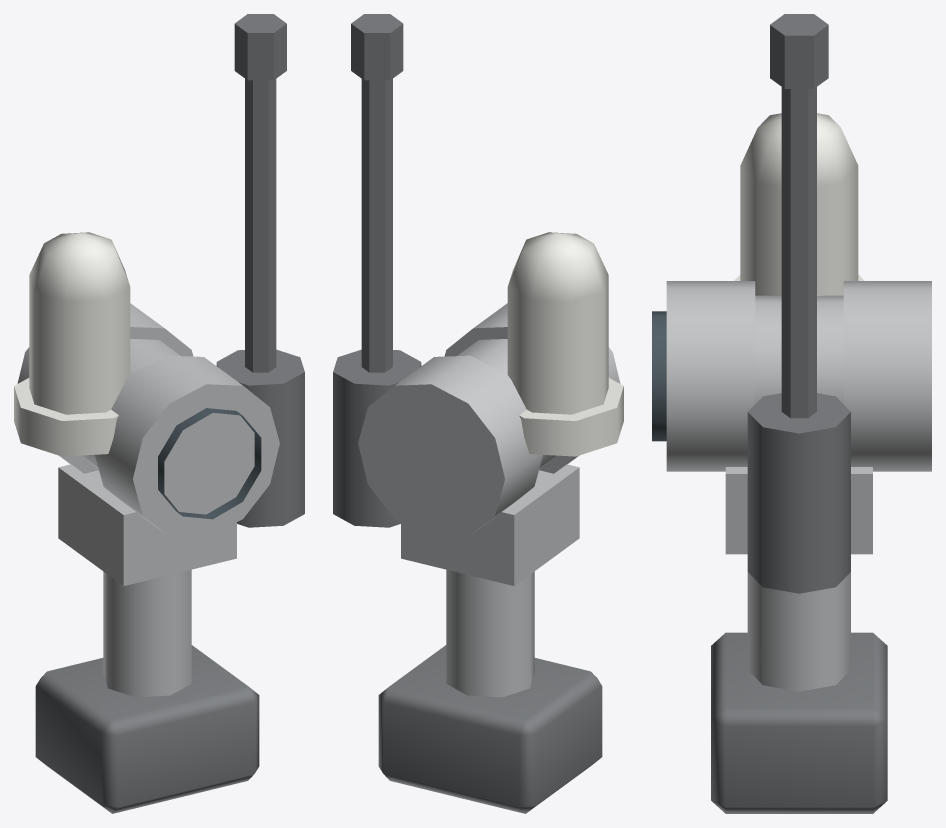
Rendered from sensor_surface.glb.
3 renders of one model, left to right at view 1: azimuth 30°, elevation 25°; view 2: azimuth 150°, elevation 25°; view 3: azimuth 270°, elevation 25°, orthographic. The views are drawn at different scales.
Visible parts, largest first — view 1: SENSOR_KIT_steel, SENSOR_KIT_steel_dark, SENSOR_KIT_light, SENSOR_KIT_glass; view 2: SENSOR_KIT_steel, SENSOR_KIT_steel_dark, SENSOR_KIT_light; view 3: SENSOR_KIT_steel_dark, SENSOR_KIT_steel, SENSOR_KIT_light, SENSOR_KIT_glass.
Boxes of the visible parts, x1,y1,x2,y2 form: SENSOR_KIT_steel: (17,303,279,697); SENSOR_KIT_steel_dark: (35,14,304,813); SENSOR_KIT_light: (14,232,130,456); SENSOR_KIT_glass: (158,408,261,519); SENSOR_KIT_steel: (358,303,620,697); SENSOR_KIT_steel_dark: (333,14,602,813); SENSOR_KIT_light: (507,232,623,456); SENSOR_KIT_steel_dark: (711,14,887,813); SENSOR_KIT_steel: (666,281,931,691); SENSOR_KIT_light: (734,113,864,296); SENSOR_KIT_glass: (652,311,666,441).
Size of the model in its own units: 0.247 by 0.61 by 0.19.
